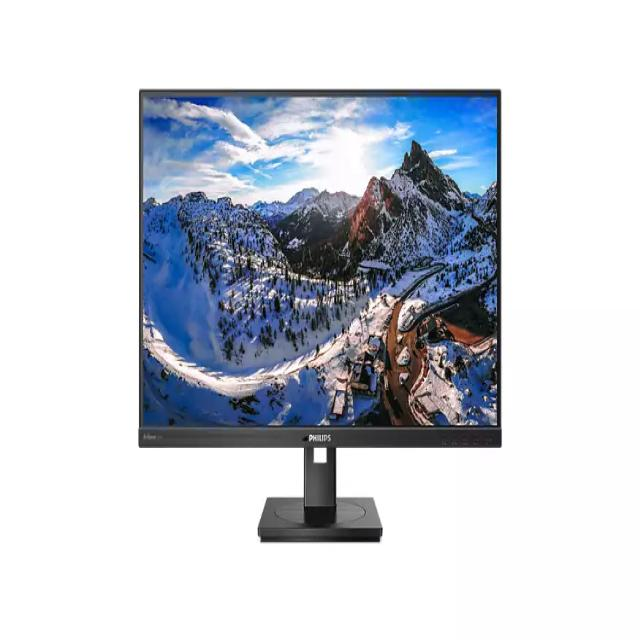monitor: (130, 76, 511, 568)
